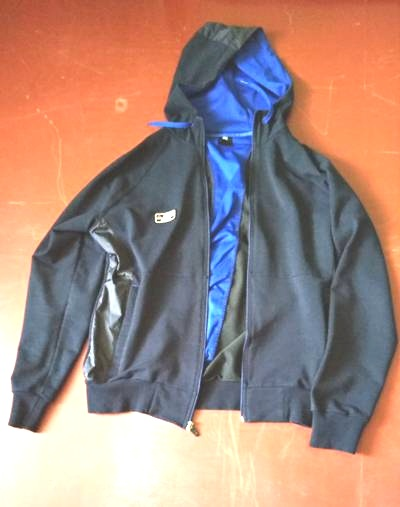Hoodie: (10, 4, 383, 449)
